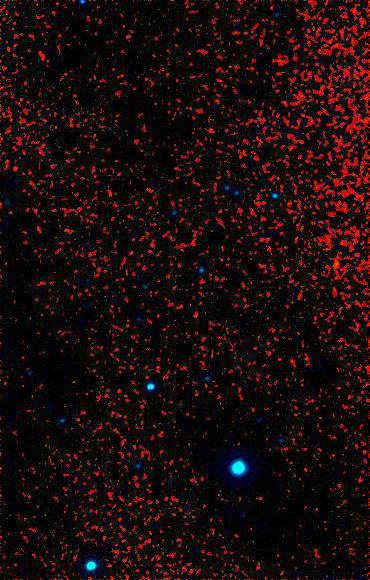star: (314, 249, 344, 279)
